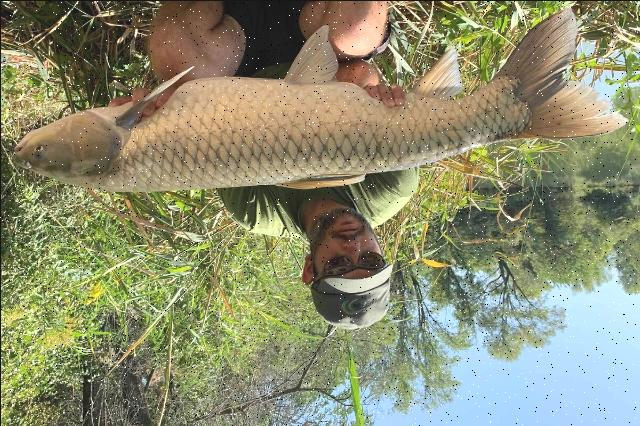Mulut: (4, 121, 38, 178)
Sirip Anal: (405, 30, 465, 112)
Sirip Dada: (112, 57, 194, 131)
Sirip Perut: (484, 0, 632, 142), (280, 19, 342, 94)
Sirip Punggung: (262, 166, 372, 192)
